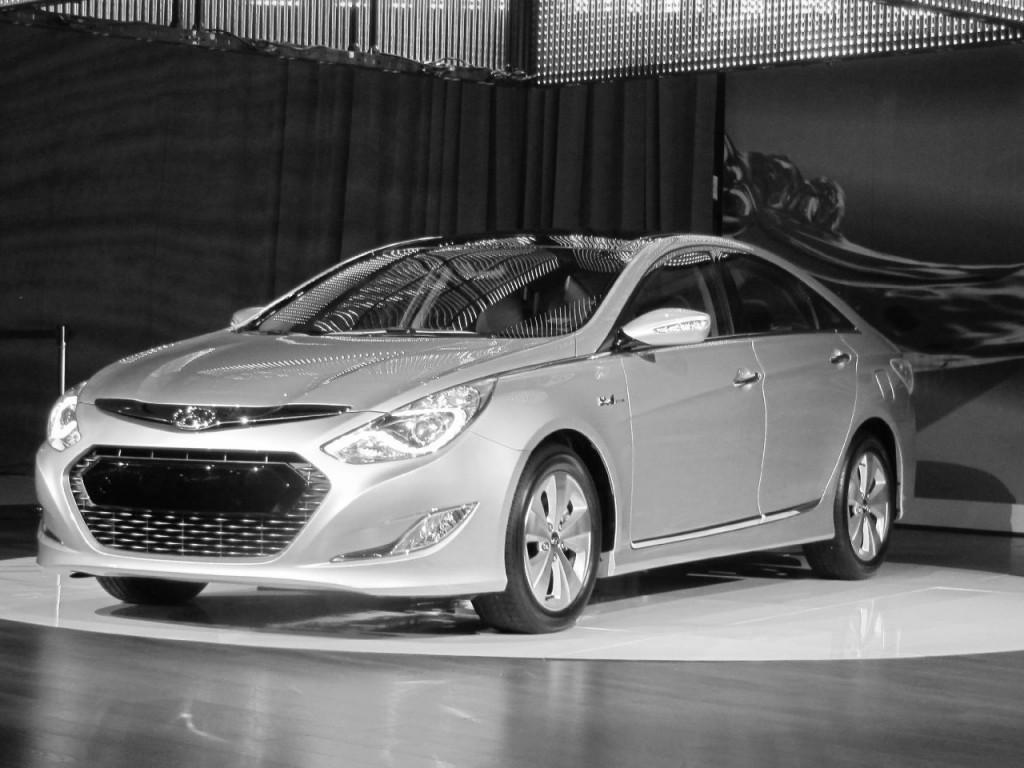car: (37, 235, 921, 640)
